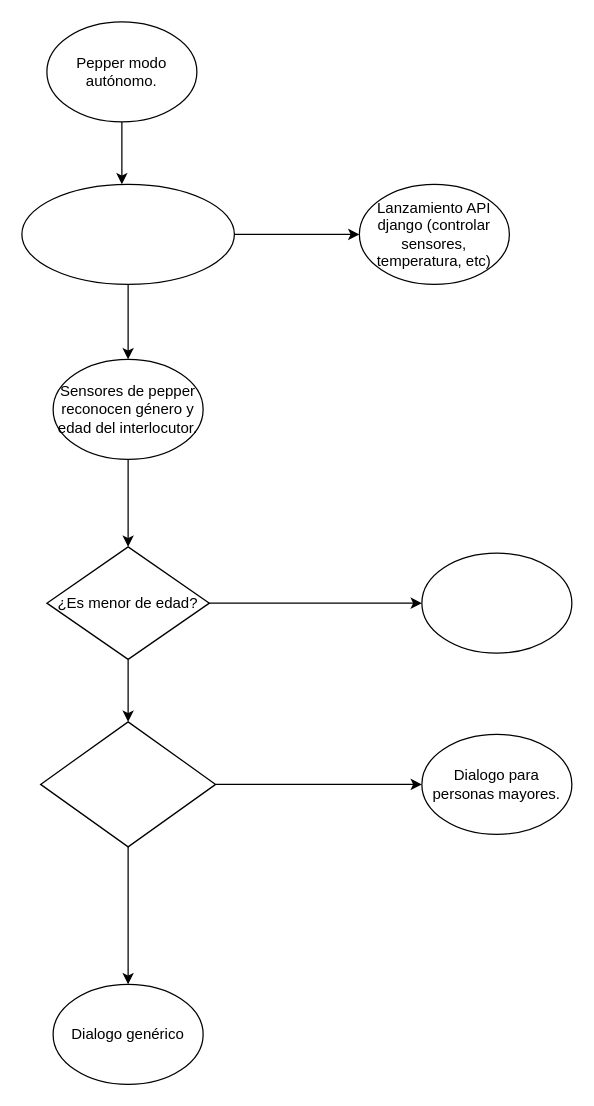
This 594x1106 diagram has some shape labels left out. The centre of each missing label's shape, as x and y in pixels:
Dialogo menores de edad: point 496,602
Frase clave: "Hola pepper, enseñame el laboratorio.": point 127,233
¿Es mayor de edad?: point 127,784
